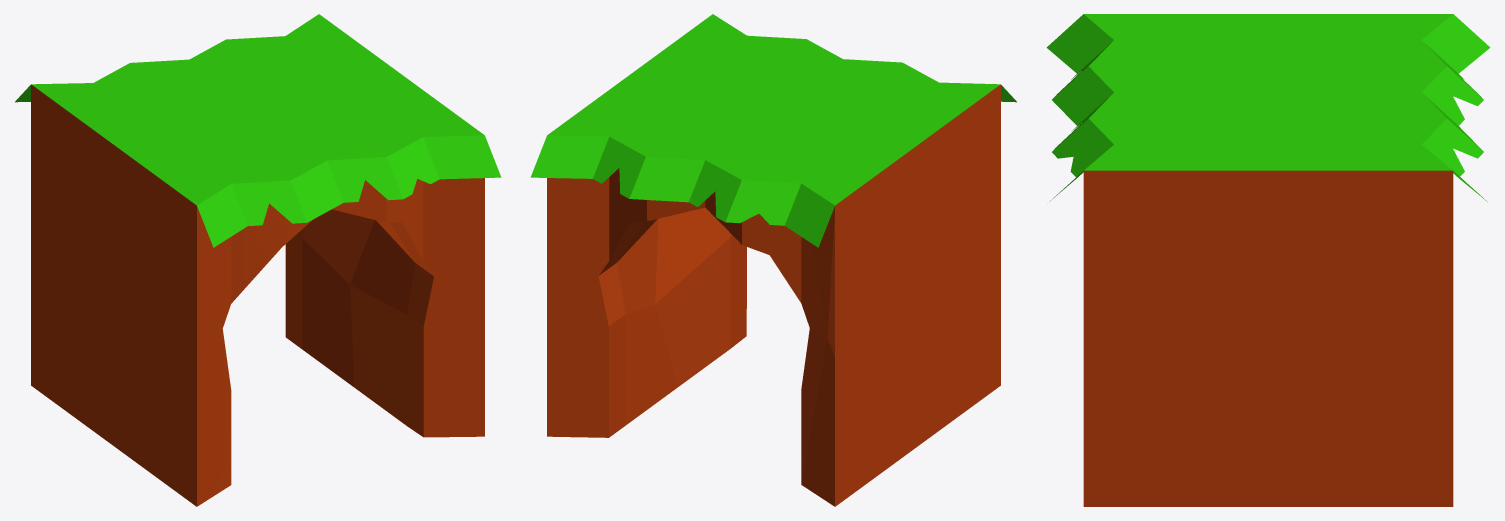
Rendered from dirt2side2.obj.
3 renders of one model, left to right at view 1: azimuth 30°, elevation 25°; view 2: azimuth 150°, elevation 25°; view 3: azimuth 270°, elevation 25°, orthographic. The views are drawn at different scales.
Parts seen in each view (by area): view 1: hillside.002; view 2: hillside.002; view 3: hillside.002.
Part boxes in pixels (left/top/right/bottom): hillside.002: left=15, top=14, right=501, bottom=506; hillside.002: left=530, top=14, right=1016, bottom=506; hillside.002: left=1046, top=14, right=1490, bottom=506.
Size of the model in its own units: 1 by 1 by 1.2.
